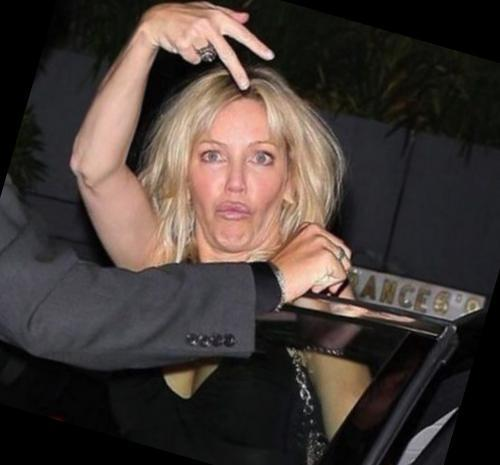Drunk: (195, 105, 283, 236)
